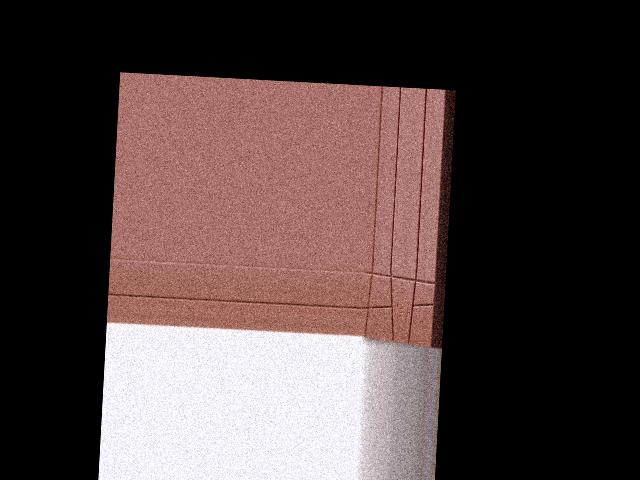chocolate: (361, 267, 439, 349)
